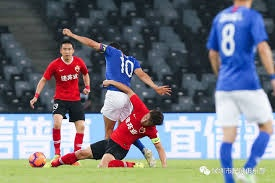falling: (41, 78, 175, 166)
